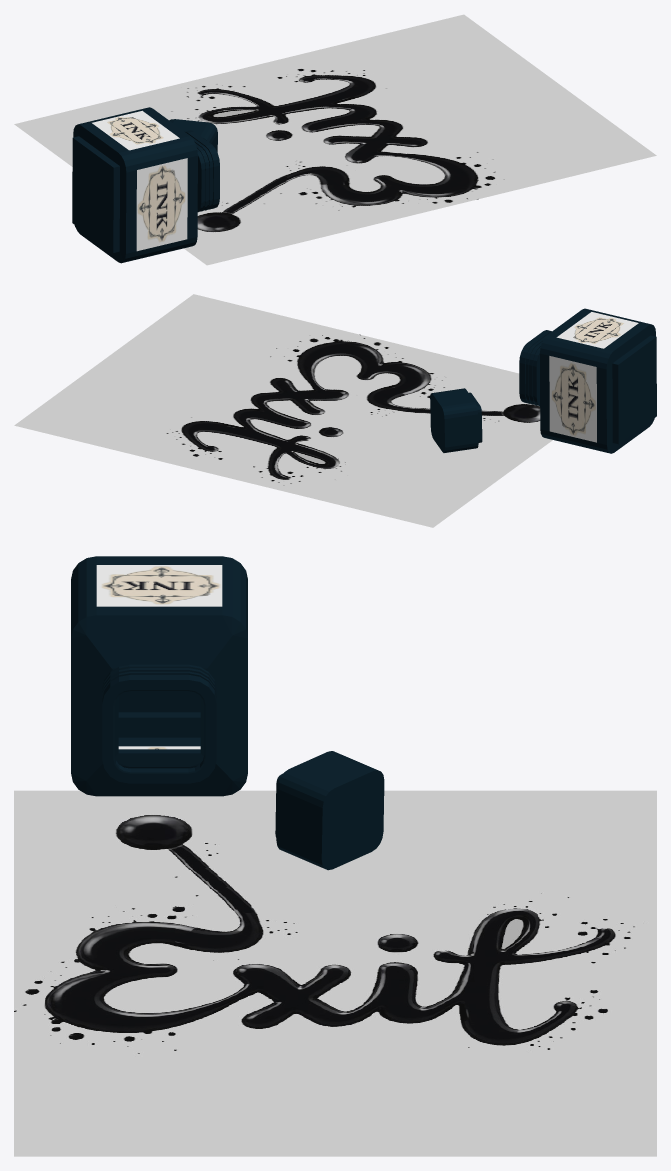
The model's file is Ink9.glb.
The picture shows the model from 3 angles, top to bottom: view 1: azimuth 30°, elevation 25°; view 2: azimuth 150°, elevation 25°; view 3: azimuth 270°, elevation 25°; orthographic projection. The views are drawn at different scales.
Parts seen in each view (by area): view 1: Plane.001, Cube, Cube.001; view 2: Plane.001, Cube, Cube.001; view 3: Plane.001, Cube, Cube.001.
Part boxes in pixels (x1=…): Plane.001: x1=14, y1=14, x2=656, y2=265; Cube: x1=72, y1=107, x2=219, y2=263; Cube.001: x1=169, y1=119, x2=217, y2=152; Plane.001: x1=14, y1=294, x2=552, y2=527; Cube: x1=519, y1=308, x2=656, y2=453; Cube.001: x1=430, y1=388, x2=482, y2=452; Plane.001: x1=14, y1=790, x2=656, y2=1156; Cube: x1=71, y1=556, x2=247, y2=796; Cube.001: x1=275, y1=751, x2=384, y2=870.
Size of the model in its own units: 0.4422 by 0.0891 by 0.2839.
Materials: 3 (2 with a texture image).
